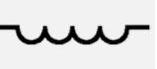inductor: (11, 15, 134, 55)
